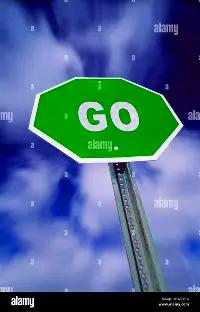Go: (37, 78, 175, 159)
